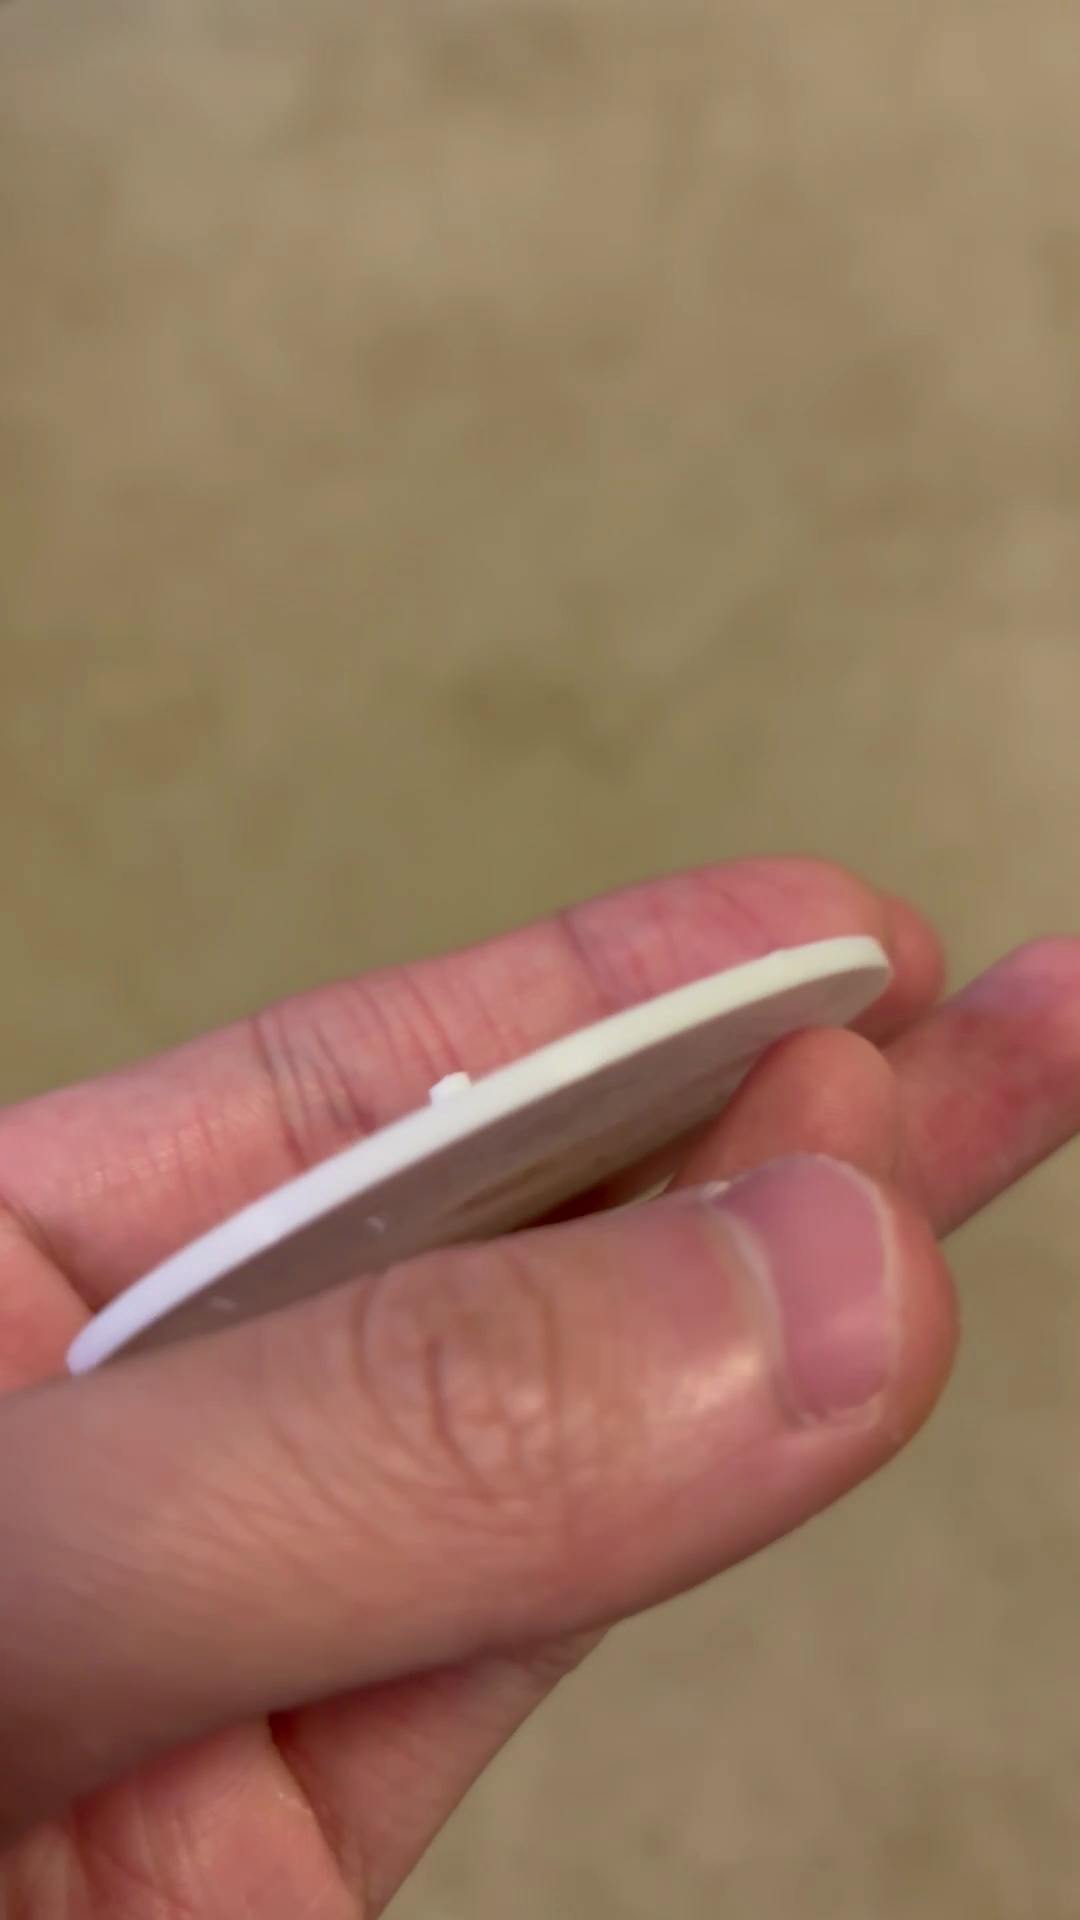Part1: (67, 938, 887, 1375)
